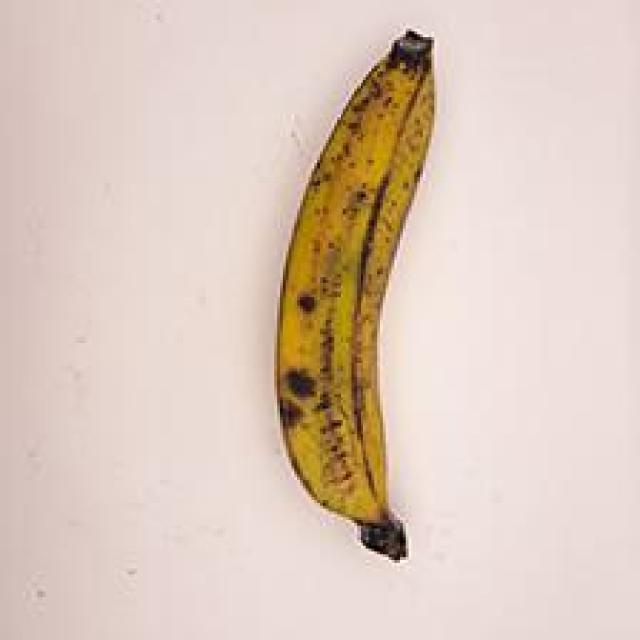Overripe: (247, 31, 500, 584)
